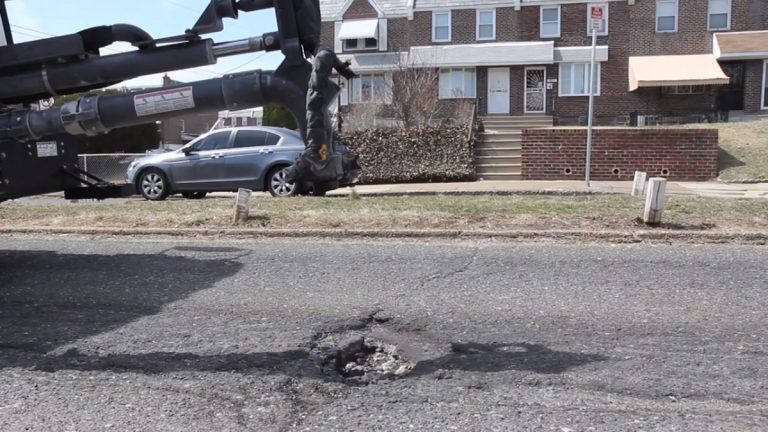pothole: (318, 341, 457, 394)
